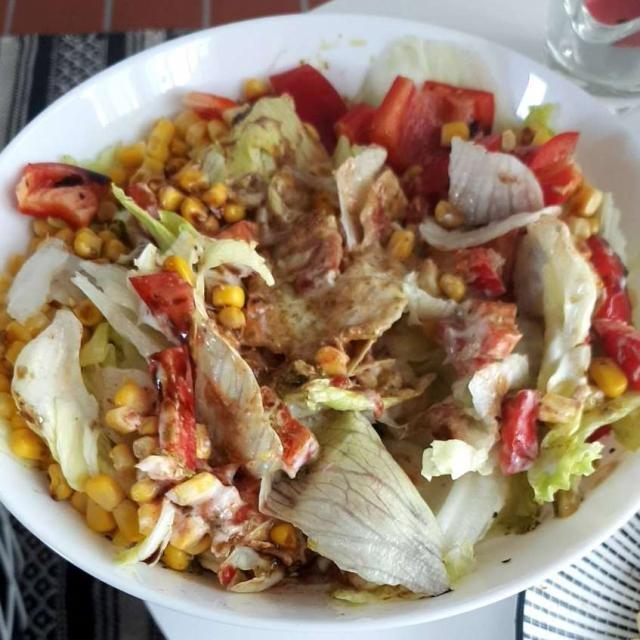bell-pepper: (23, 56, 634, 475)
